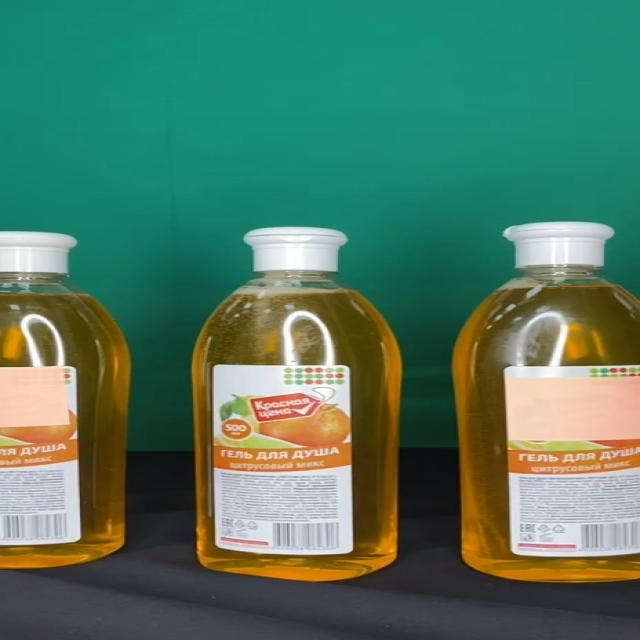Bottle: (192, 226, 402, 582), (451, 222, 640, 583)
Cap: (505, 222, 614, 266), (242, 227, 349, 271)
